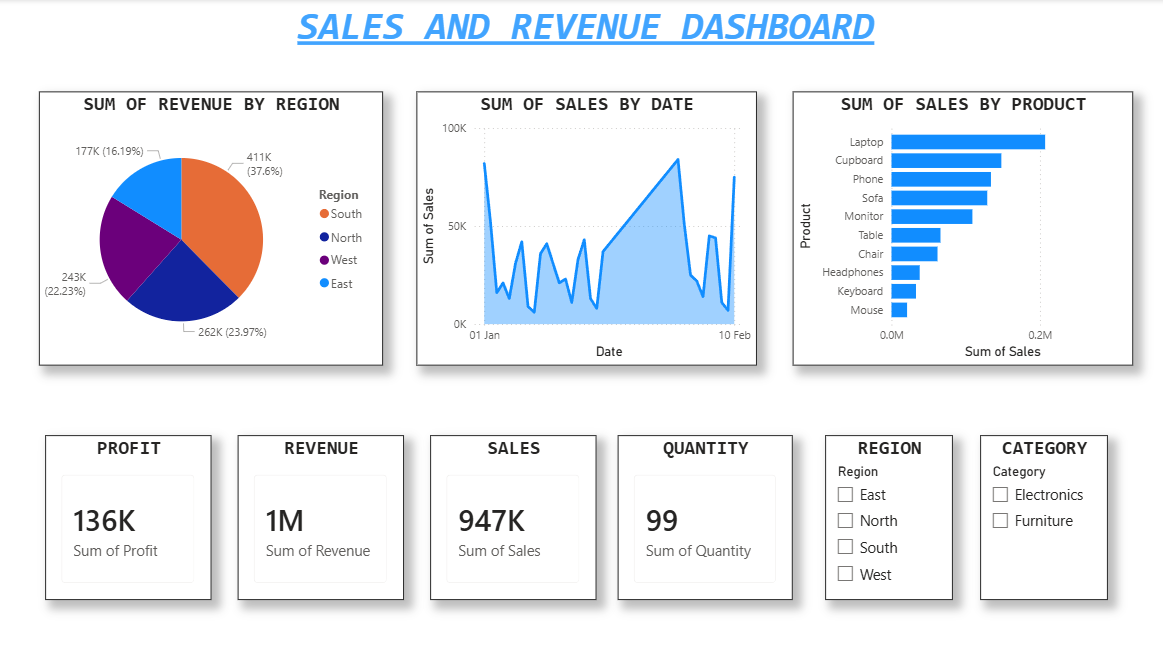

Layout of this report page (visuals, bound fields, positions):
{"tool":"powerbi","page":{"name":"Page 1","canvas":[1280,720],"ordinal":0},"visuals":[{"type":"cardVisual","title":"SALES","fields":{"Data":["Sum(Sheet1.Sales)"]},"box":[473.4,478.9,182.5,181.1],"z":0},{"type":"cardVisual","title":"REVENUE","fields":{"Data":["Sum(Sheet1.Revenue)"]},"box":[262.1,478.9,182.5,181.1],"z":1000},{"type":"lineChart","title":"SUM OF SALES BY DATE","fields":{"Category":["Sheet1.Date"],"Y":["Sum(Sheet1.Sales)"]},"box":[458.3,101.5,373.2,300.5],"z":2000},{"type":"clusteredBarChart","title":"SUM OF SALES BY PRODUCT","fields":{"Category":["Sheet1.Product"],"Y":["Sum(Sheet1.Sales)"]},"box":[871.4,101.5,373.2,300.5],"z":3000},{"type":"slicer","title":"CATEGORY","fields":{"Values":["Sheet1.Category"]},"box":[1077.2,478.9,140,181.1],"z":4000},{"type":"slicer","title":"REGION","fields":{"Values":["Sheet1.Region"]},"box":[907,478.9,140,181.1],"z":5000},{"type":"textbox","box":[289.5,0,709.4,64.5],"z":6000},{"type":"cardVisual","title":"PROFIT","fields":{"Data":["Sum(Sheet1.Profit)"]},"box":[50.8,478.9,182.5,181.1],"z":7000},{"type":"cardVisual","title":"QUANTITY","fields":{"Data":["Sum(Sheet1.Quantity)"]},"box":[679.2,478.9,192.1,181.1],"z":7001},{"type":"pieChart","title":"SUM OF REVENUE BY REGION","fields":{"Category":["Sheet1.Region"],"Y":["Sum(Sheet1.Revenue)"]},"box":[43.9,101.5,377.4,300.5],"z":7002}]}

Visuals, with their boxes in screenshot pixels (x1, y1, x2, y2), scaled from the page's 1280x720 canvas onto the 1163x653 screenshot:
"SALES" cardVisual: x1=430, y1=434, x2=596, y2=599
"REVENUE" cardVisual: x1=238, y1=434, x2=404, y2=599
"SUM OF SALES BY DATE" lineChart: x1=416, y1=92, x2=755, y2=365
"SUM OF SALES BY PRODUCT" clusteredBarChart: x1=792, y1=92, x2=1131, y2=365
"CATEGORY" slicer: x1=979, y1=434, x2=1106, y2=599
"REGION" slicer: x1=824, y1=434, x2=951, y2=599
textbox: x1=263, y1=0, x2=908, y2=58
"PROFIT" cardVisual: x1=46, y1=434, x2=212, y2=599
"QUANTITY" cardVisual: x1=617, y1=434, x2=792, y2=599
"SUM OF REVENUE BY REGION" pieChart: x1=40, y1=92, x2=383, y2=365
